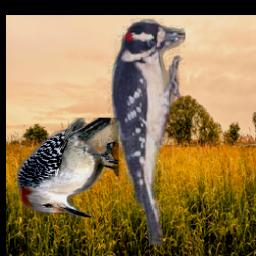Woodpecker: (109, 15, 186, 245), (17, 118, 119, 217)
